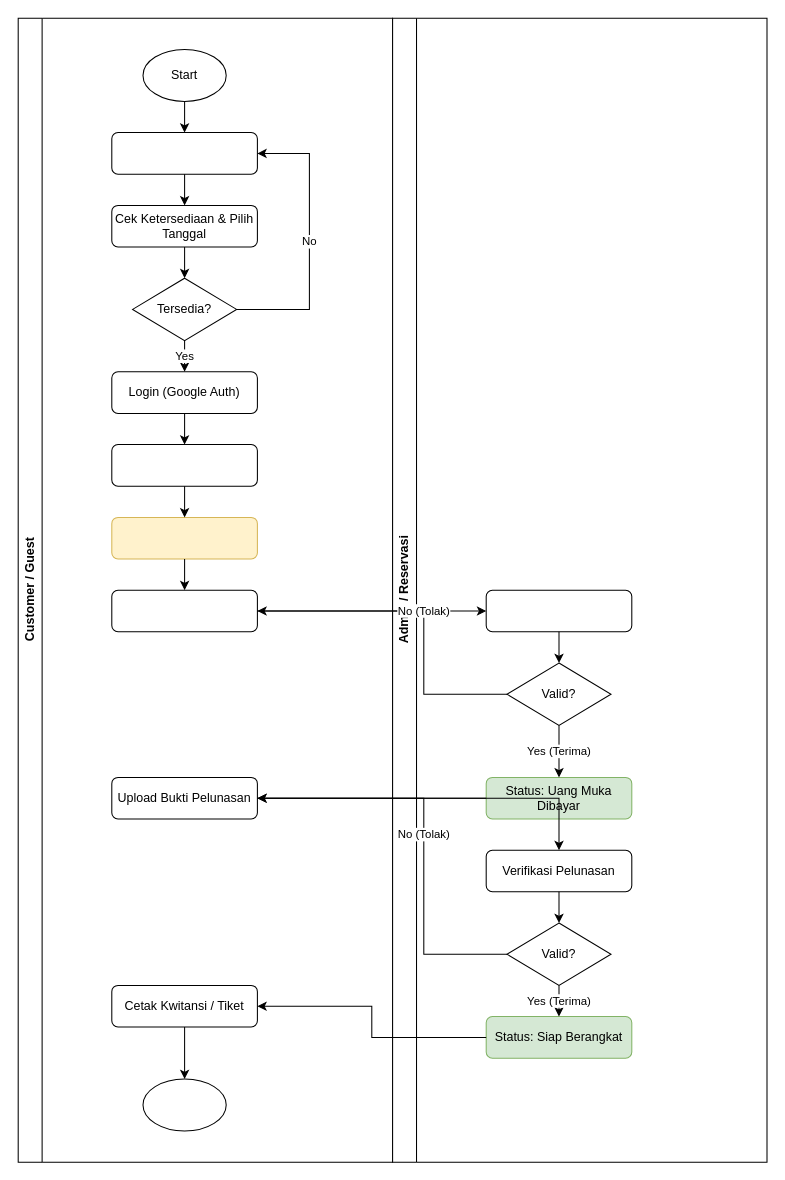
This 785x1180 diagram has some shape labels left out. Here are the shapes that lost their labels. From the top down, the centre of each, then its label:
pixel 184 153: Melihat Katalog Bus
pixel 184 465: Isi Form Booking
pixel 184 537: Booking Pending (Batas 2 Jam)
pixel 184 610: Upload Bukti DP
pixel 558 610: Verifikasi Bukti DP
pixel 184 1104: End
